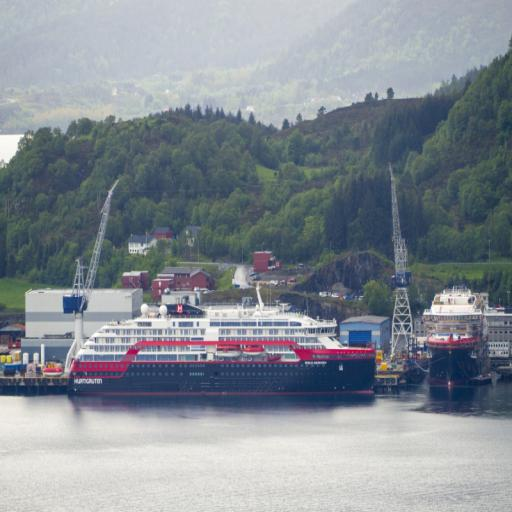cruises: (65, 289, 380, 407)
